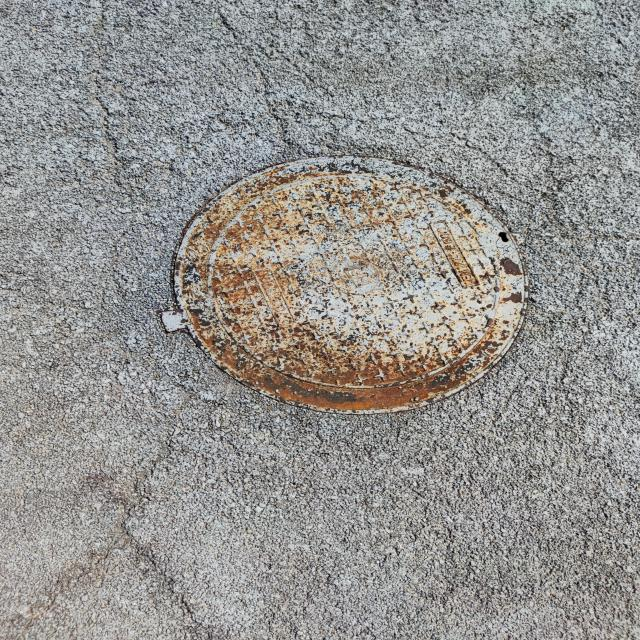Good: (165, 147, 538, 424)
